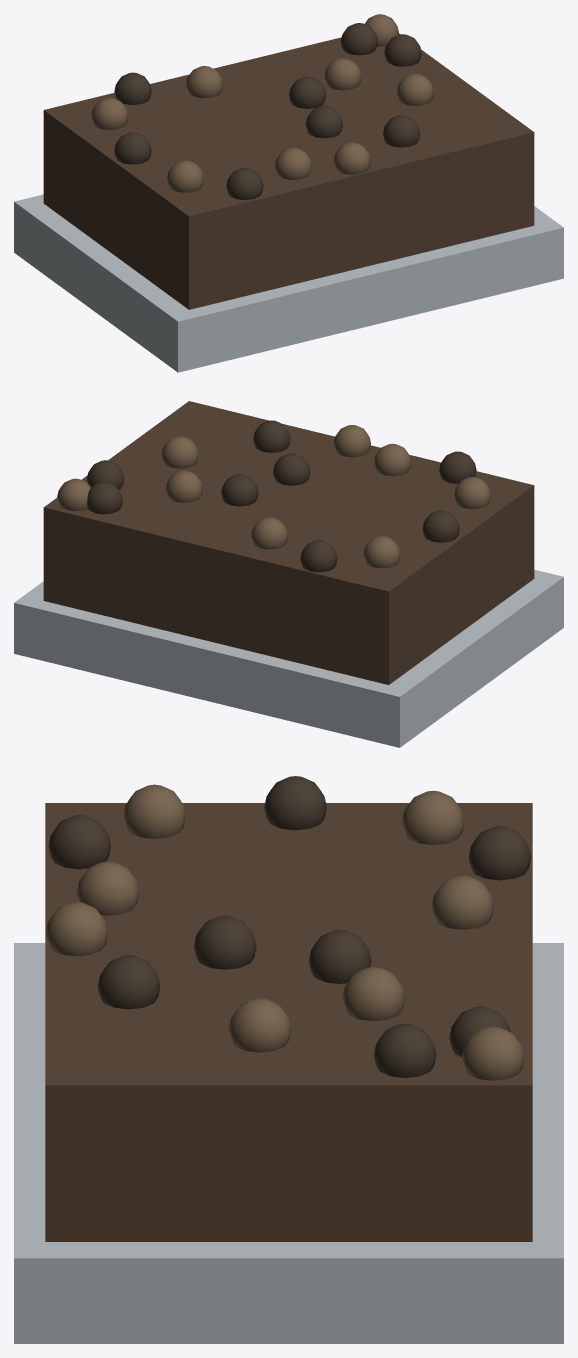
File: catalogue-substrate.glb
The picture shows the model from 3 angles, top to bottom: view 1: azimuth 30°, elevation 25°; view 2: azimuth 150°, elevation 25°; view 3: azimuth 270°, elevation 25°; orthographic projection. The views are drawn at different scales.
Bounding box in the file's own units: 0.95 × 0.395 × 0.7.
